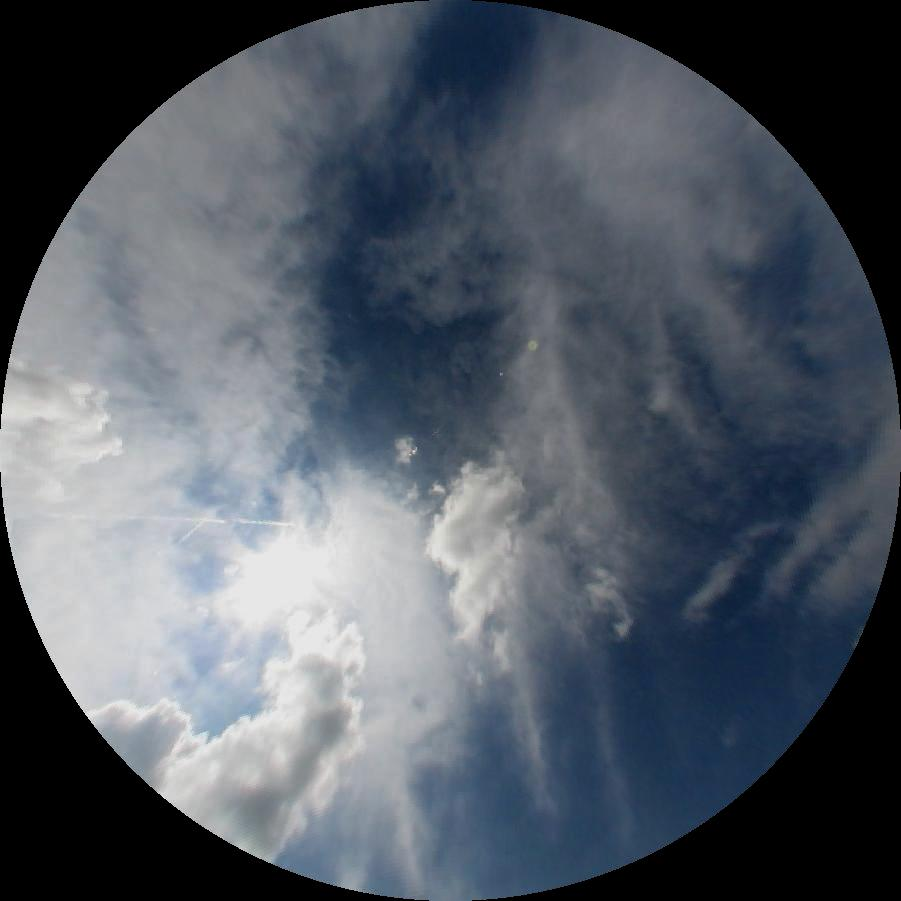contrail young: (178, 519, 206, 544)
parasite: (47, 511, 295, 526)
sun: (228, 544, 315, 622)
